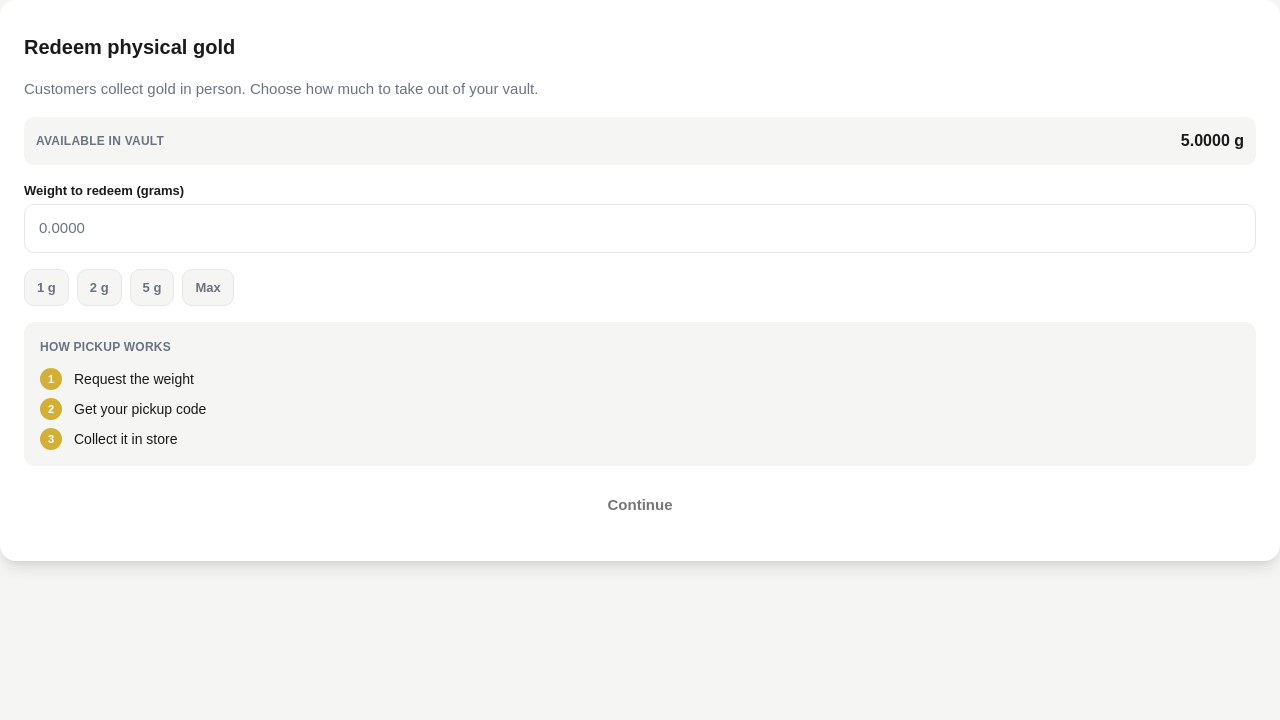
Test: RedeemFlow › returns to the form with the typed weight when the modal is dismissed
Type "2" into the field labelled "Weight to redeem (grams)". click: (640,228)
box: left=37, top=205, right=1243, bottom=252
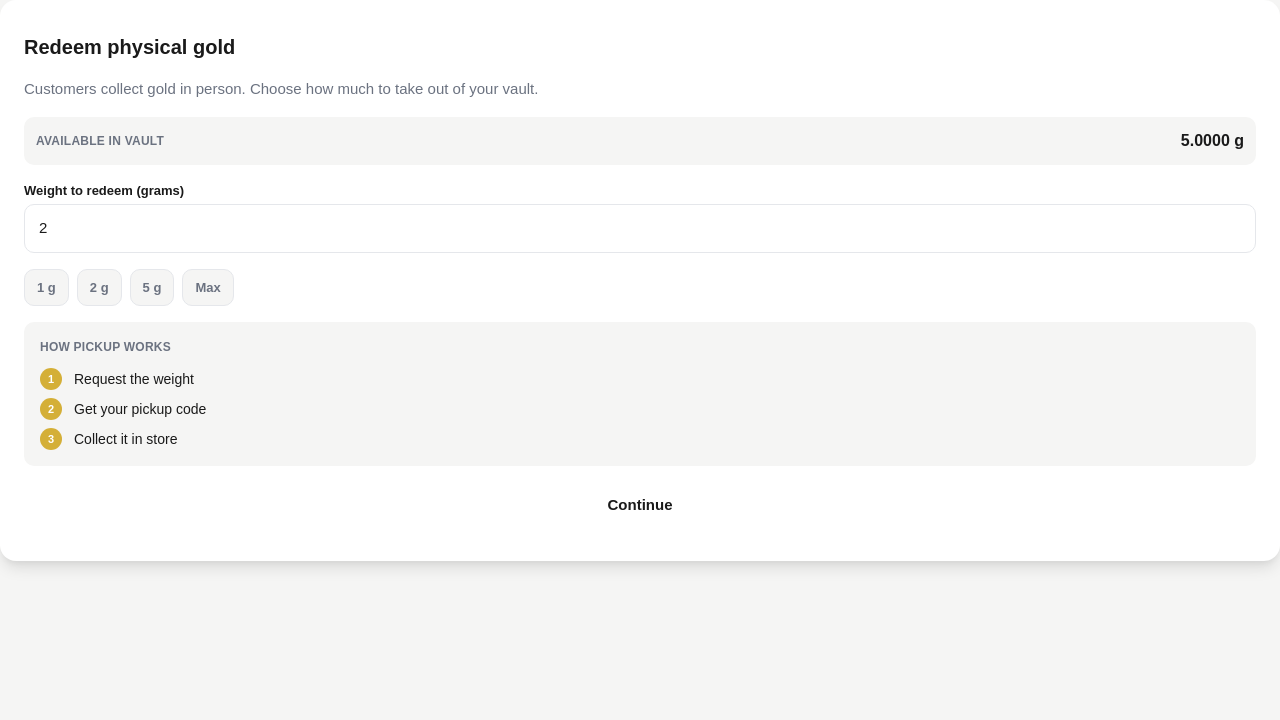
Now the button "Continue" is enabled
Click the button "Continue". click: (640,505)
box: left=24, top=482, right=1256, bottom=528
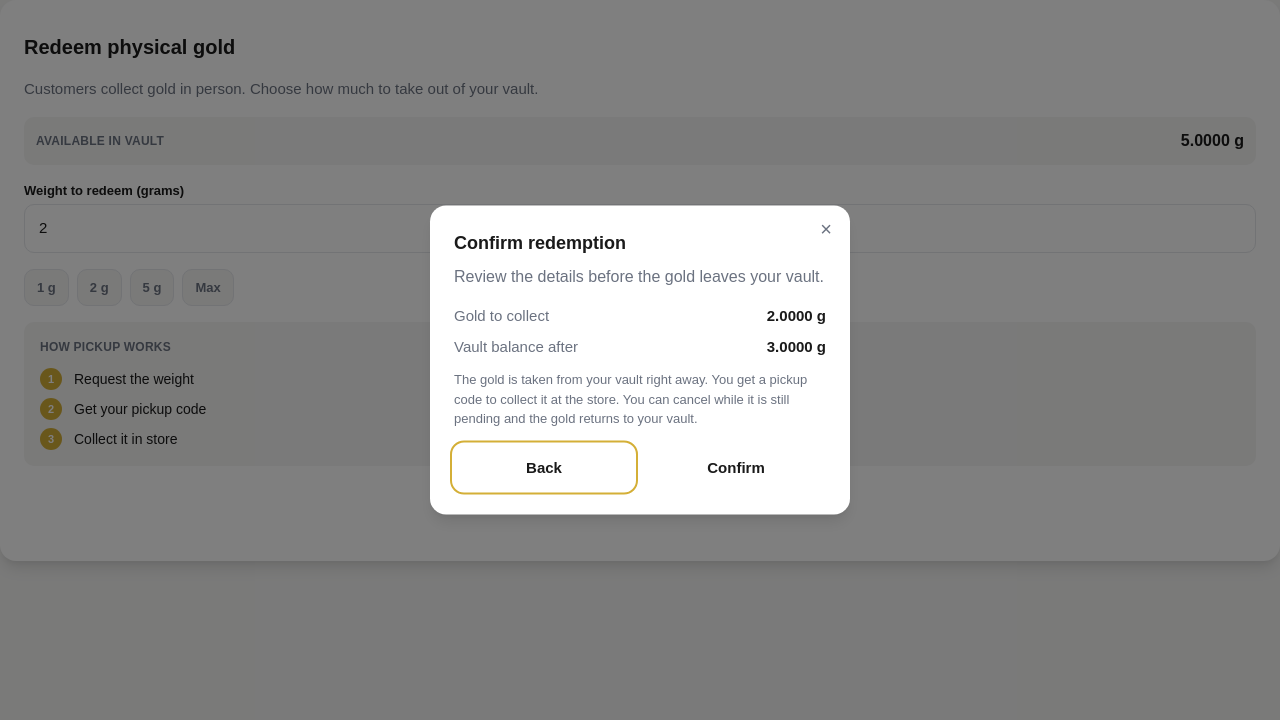
Now the dialog is shown, box left=430, top=206, right=850, bottom=514
Click the button "Back". click: (544,467)
box: left=454, top=444, right=634, bottom=490
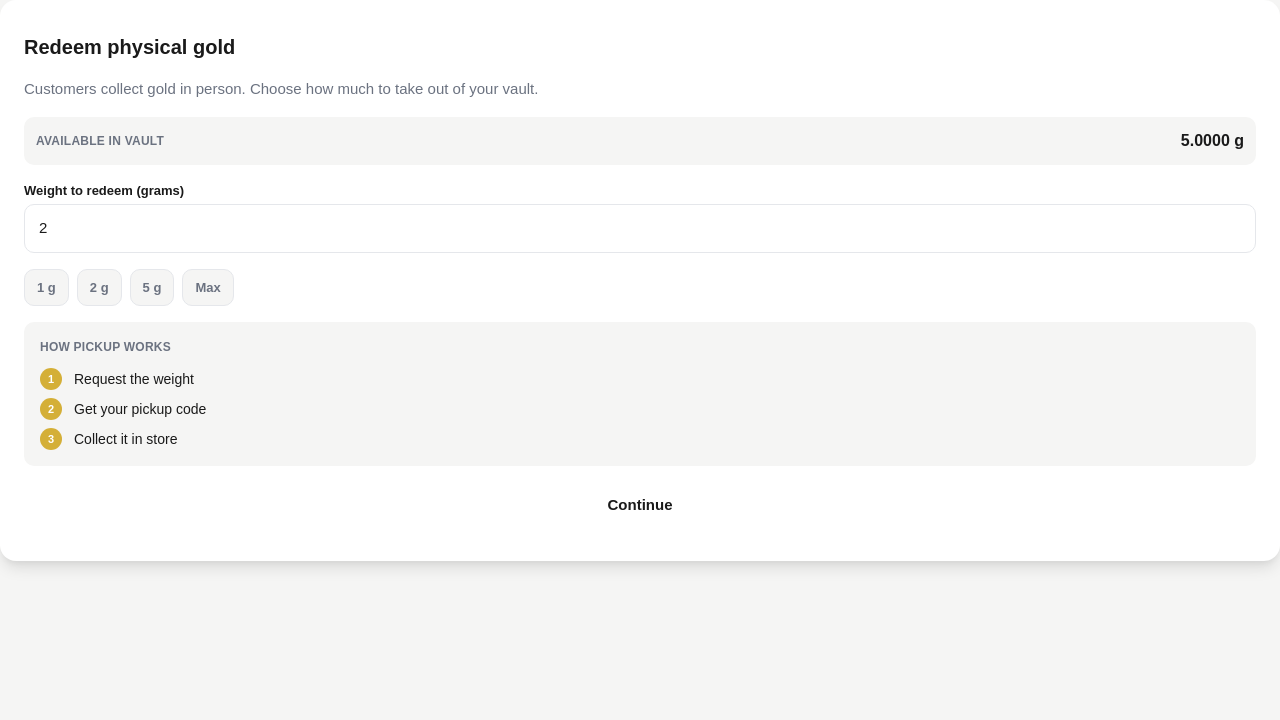
Now the dialog is gone
